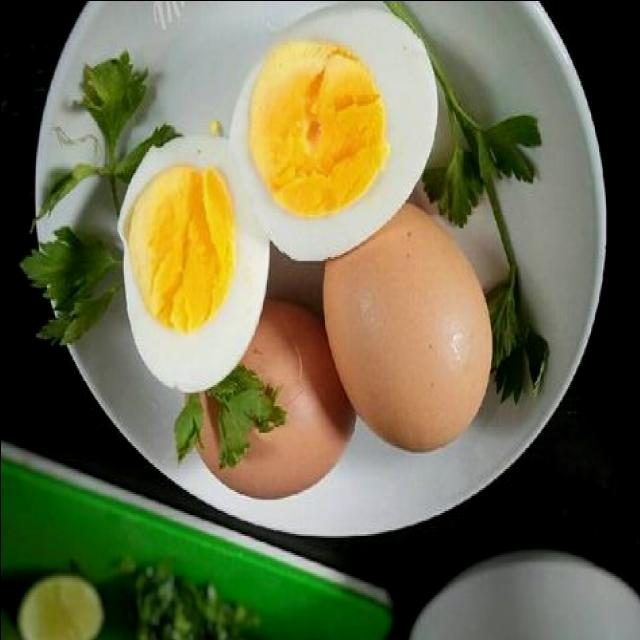telur rebus: (235, 0, 437, 260), (113, 113, 269, 392)
